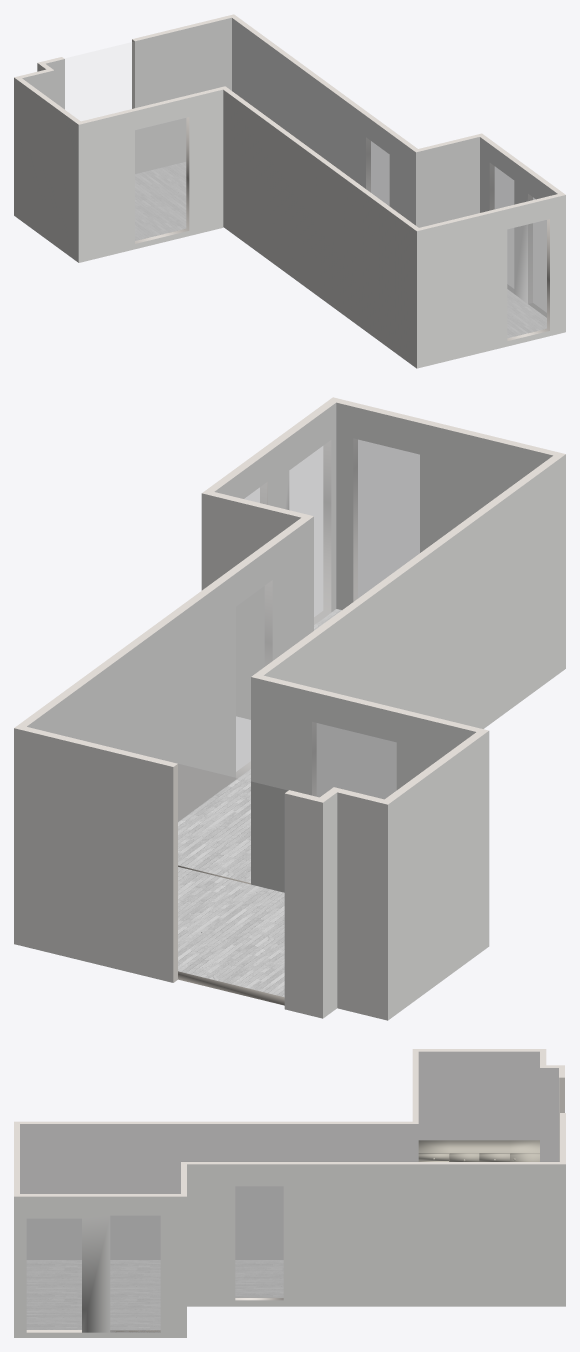
Rendered from Toilets by lifts.fbx.
3 views of the same model, one above another, from view 1: azimuth 30°, elevation 25°; view 2: azimuth 150°, elevation 25°; view 3: azimuth 270°, elevation 25° (orthographic). The views are drawn at different scales.
Parts seen in each view (by area): view 1: node_a4d372c0_5e66_47d3_8b47_1341b001d919_mesh0, node_bb40becc_98f0_4bd5_bd76_77c580e8d505_mesh0, node_c6d15e46_1e73_4092_a609_42bc4c58042f_mesh0, node_56c2ccf6_de92_4fbc_afd0_52da73c4c8be_mesh0, node_ceebc701_f25b_4ecd_8980_c7a47e36eb42_mesh0, node_29dc2047_674e_4fa8_81bb_7722ece8cdef_mesh0, node_b8f0ef3e_caa0_4ce7_aa94_0b9fe2b51a66_mesh0, node_c09c4d9f_a7c9_4a70_a966_9ec787ed6a9c_mesh0, node_5eda571a_a8f3_4d2c_84e5_23143c7bd991_mesh0, node_1d0c0f97_8f80_409d_a271_5bd605751b7f_mesh0, node_988dd472_15a1_4b11_b24f_21c7d09e388f_mesh0, node_691935d4_041c_4464_81fc_8237f9200fd2_mesh0 (+18 smaller); view 2: node_a4d372c0_5e66_47d3_8b47_1341b001d919_mesh0, node_bb40becc_98f0_4bd5_bd76_77c580e8d505_mesh0, node_23d19061_e7aa_45c4_baae_a7683282a02b_mesh0, node_ceebc701_f25b_4ecd_8980_c7a47e36eb42_mesh0, node_29dc2047_674e_4fa8_81bb_7722ece8cdef_mesh0, node_c09c4d9f_a7c9_4a70_a966_9ec787ed6a9c_mesh0, node_5eda571a_a8f3_4d2c_84e5_23143c7bd991_mesh0, node_9284bbf5_56bb_4e5c_ab53_83aae82b59cb_mesh0, node_ed38f55d_2dab_4fd8_ac93_cd87078645bf_mesh0, node_a4b85966_7f79_497d_8a2d_509fc2f19d17_mesh0, node_5a418746_4eb4_4574_b365_4fe0a17607cd_mesh0, node_e3fa1564_e643_46b3_8e8e_e8bdf97f1e1e_mesh0 (+24 smaller); view 3: node_395e037d_95a2_4488_9ee9_ba6ab285f6bc_mesh0, node_d075ad88_316d_4376_a78e_bf447d9f558f_mesh0, node_bb40becc_98f0_4bd5_bd76_77c580e8d505_mesh0, node_f0f39969_87a7_474a_a8c4_4deccd1193ca_mesh0, node_1967bc39_a166_4681_ba7c_dcec197884dd_mesh0, node_2e3729a5_0b92_4e74_b5a4_a10d7e7a9e57_mesh0, node_c09c4d9f_a7c9_4a70_a966_9ec787ed6a9c_mesh0, node_5eda571a_a8f3_4d2c_84e5_23143c7bd991_mesh0, node_95f8333a_beac_44ff_850d_0f64e05fbcfb_mesh0, node_f86676ed_d904_4465_9a93_deb414b522e0_mesh0, node_4228243a_d1dc_492d_989b_46e1ccde3f42_mesh0, node_b45d6600_76f0_4712_a3bd_2b1372cbf301_mesh0 (+10 smaller).
Part boxes in pixels (<box>): node_a4d372c0_5e66_47d3_8b47_1341b001d919_mesh0: <box>223,90,416,368</box>; node_bb40becc_98f0_4bd5_bd76_77c580e8d505_mesh0: <box>226,68,556,226</box>; node_c6d15e46_1e73_4092_a609_42bc4c58042f_mesh0: <box>417,195,565,368</box>; node_56c2ccf6_de92_4fbc_afd0_52da73c4c8be_mesh0: <box>78,89,223,262</box>; node_ceebc701_f25b_4ecd_8980_c7a47e36eb42_mesh0: <box>232,18,415,225</box>; node_29dc2047_674e_4fa8_81bb_7722ece8cdef_mesh0: <box>14,77,78,262</box>; node_b8f0ef3e_caa0_4ce7_aa94_0b9fe2b51a66_mesh0: <box>135,17,231,173</box>; node_c09c4d9f_a7c9_4a70_a966_9ec787ed6a9c_mesh0: <box>23,42,201,120</box>; node_5eda571a_a8f3_4d2c_84e5_23143c7bd991_mesh0: <box>136,18,299,90</box>; node_1d0c0f97_8f80_409d_a271_5bd605751b7f_mesh0: <box>135,118,185,240</box>; node_988dd472_15a1_4b11_b24f_21c7d09e388f_mesh0: <box>135,118,185,240</box>; node_691935d4_041c_4464_81fc_8237f9200fd2_mesh0: <box>416,137,479,227</box>; node_a4d372c0_5e66_47d3_8b47_1341b001d919_mesh0: <box>264,454,565,798</box>; node_bb40becc_98f0_4bd5_bd76_77c580e8d505_mesh0: <box>135,403,551,676</box>; node_23d19061_e7aa_45c4_baae_a7683282a02b_mesh0: <box>14,728,173,982</box>; node_ceebc701_f25b_4ecd_8980_c7a47e36eb42_mesh0: <box>27,516,313,821</box>; node_29dc2047_674e_4fa8_81bb_7722ece8cdef_mesh0: <box>388,731,489,1020</box>; node_c09c4d9f_a7c9_4a70_a966_9ec787ed6a9c_mesh0: <box>179,686,475,798</box>; node_5eda571a_a8f3_4d2c_84e5_23143c7bd991_mesh0: <box>27,649,283,762</box>; node_9284bbf5_56bb_4e5c_ab53_83aae82b59cb_mesh0: <box>251,677,475,892</box>; node_ed38f55d_2dab_4fd8_ac93_cd87078645bf_mesh0: <box>336,402,552,609</box>; node_a4b85966_7f79_497d_8a2d_509fc2f19d17_mesh0: <box>178,867,284,997</box>; node_5a418746_4eb4_4574_b365_4fe0a17607cd_mesh0: <box>337,792,387,1020</box>; node_e3fa1564_e643_46b3_8e8e_e8bdf97f1e1e_mesh0: <box>353,438,419,601</box>; node_395e037d_95a2_4488_9ee9_ba6ab285f6bc_mesh0: <box>187,1164,565,1306</box>; node_d075ad88_316d_4376_a78e_bf447d9f558f_mesh0: <box>20,1124,418,1259</box>; node_bb40becc_98f0_4bd5_bd76_77c580e8d505_mesh0: <box>20,1124,417,1193</box>; node_f0f39969_87a7_474a_a8c4_4deccd1193ca_mesh0: <box>14,1196,186,1337</box>; node_1967bc39_a166_4681_ba7c_dcec197884dd_mesh0: <box>418,1051,539,1140</box>; node_2e3729a5_0b92_4e74_b5a4_a10d7e7a9e57_mesh0: <box>27,1260,283,1329</box>; node_c09c4d9f_a7c9_4a70_a966_9ec787ed6a9c_mesh0: <box>419,1052,559,1112</box>; node_5eda571a_a8f3_4d2c_84e5_23143c7bd991_mesh0: <box>419,1113,559,1160</box>; node_95f8333a_beac_44ff_850d_0f64e05fbcfb_mesh0: <box>27,1219,81,1329</box>; node_f86676ed_d904_4465_9a93_deb414b522e0_mesh0: <box>27,1219,81,1329</box>; node_4228243a_d1dc_492d_989b_46e1ccde3f42_mesh0: <box>110,1216,160,1329</box>; node_b45d6600_76f0_4712_a3bd_2b1372cbf301_mesh0: <box>110,1216,160,1329</box>.
Size of the model in its own units: 577 by 260 by 912.
Materials: 9 (2 with a texture image).
